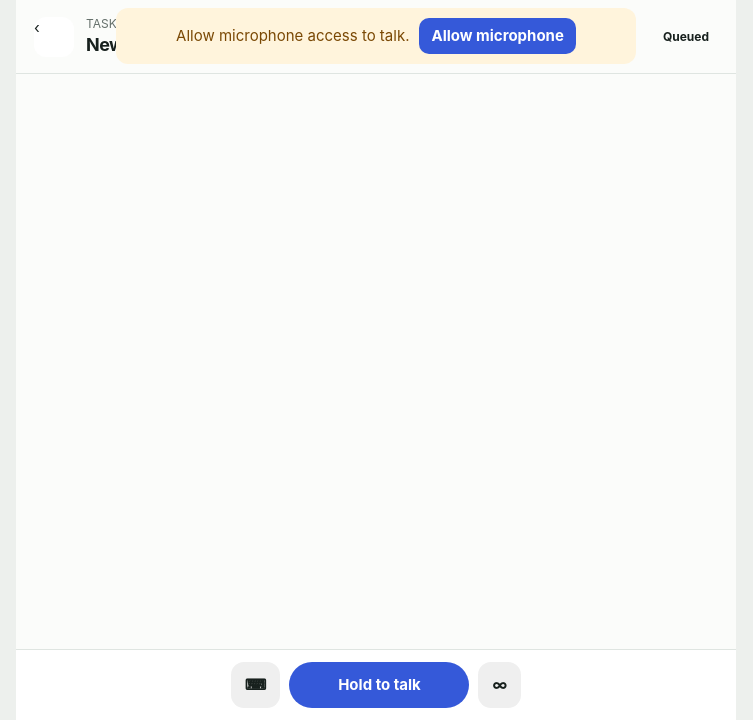
Test case: mobile golden paths › explains blocked microphone permission and keeps typing available
Click the button "Allow microphone" at (498, 36), box [420, 18, 576, 54]
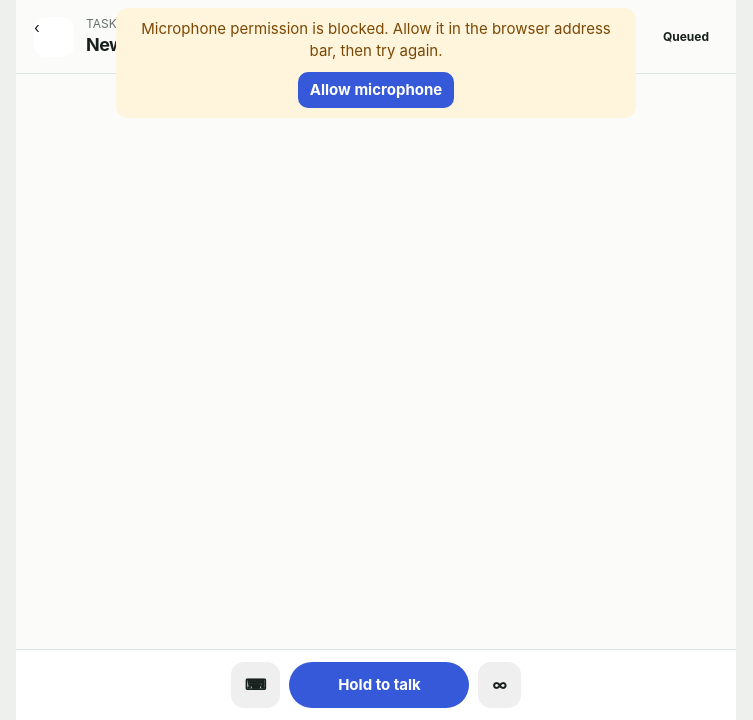
Check: the button "Hold to talk" is shown, box [290, 662, 470, 708]
Check: the text "Microphone permission is blocked" is shown, box [141, 19, 611, 60]
